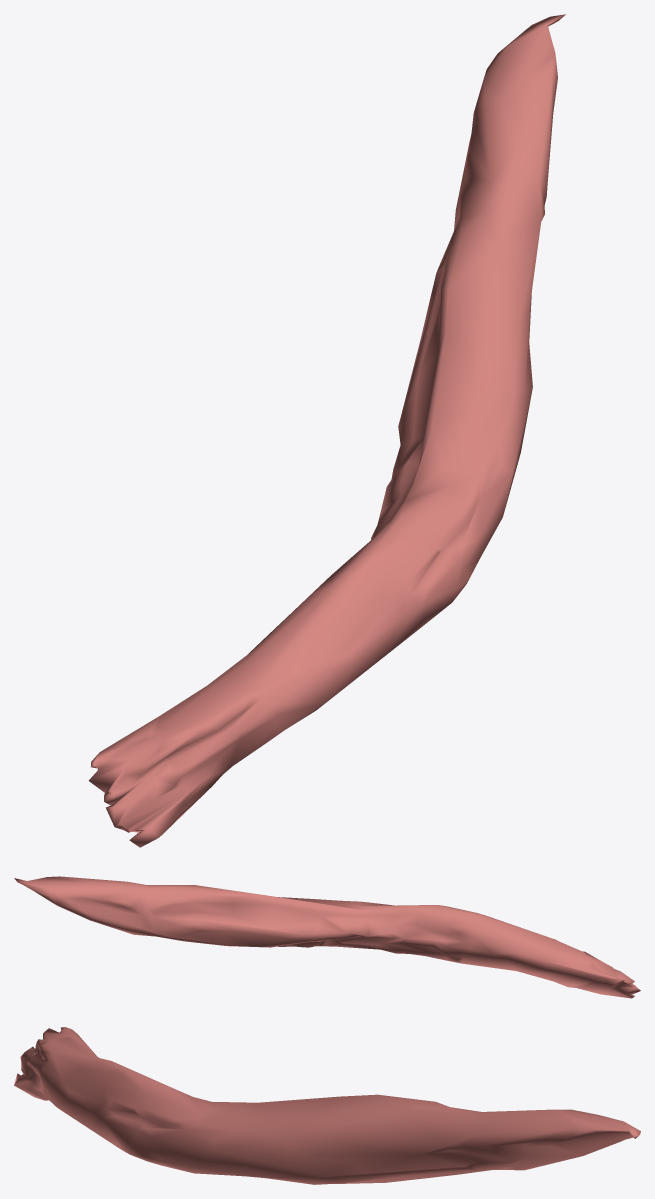
3 renders of one model, top to bottom at view 1: azimuth 30°, elevation 25°; view 2: azimuth 150°, elevation 25°; view 3: azimuth 270°, elevation 25°, orthographic. The views are drawn at different scales.
Visible parts, largest first — view 1: ZA_0f2b65d113cfac85; view 2: ZA_0f2b65d113cfac85; view 3: ZA_0f2b65d113cfac85.
Boxes of the visible parts, box(x1,y1,x2,y2) form: ZA_0f2b65d113cfac85: box(88, 14, 565, 847); ZA_0f2b65d113cfac85: box(14, 876, 640, 998); ZA_0f2b65d113cfac85: box(14, 1027, 640, 1184).
Bounding box in the file's own units: 0.0747 × 0.0277 × 0.0616.
